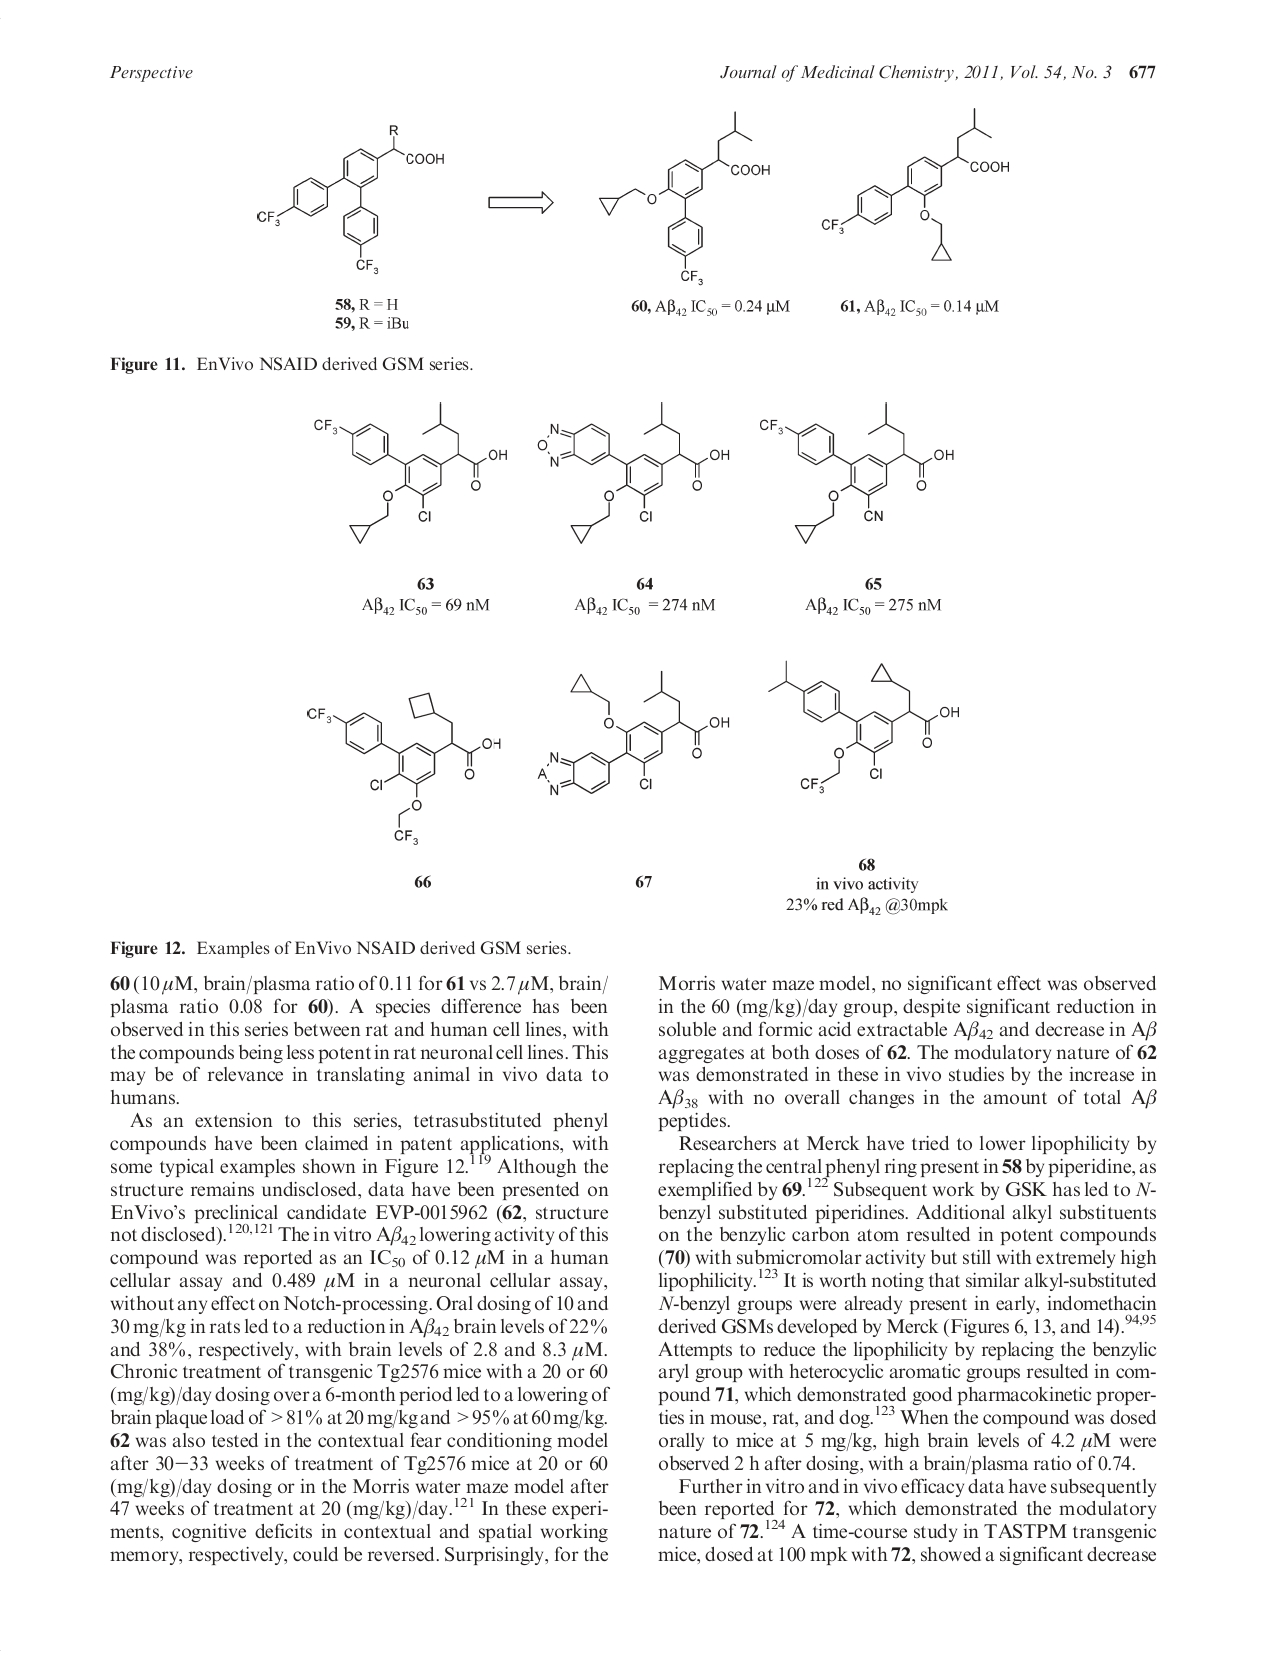exist_molecular: (302, 686, 503, 848), (598, 104, 774, 286), (819, 105, 1013, 267), (755, 398, 959, 551), (255, 122, 447, 278), (536, 395, 734, 545), (761, 649, 965, 794), (310, 398, 509, 544), (536, 664, 735, 797)
